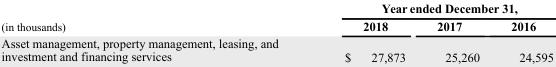table: (0, 0, 553, 63)
table column: (0, 0, 310, 63), (310, 0, 420, 63), (420, 0, 494, 63), (494, 0, 553, 63)
table column header: (0, 0, 553, 34)
table row: (0, 34, 553, 63), (0, 16, 553, 34), (0, 0, 553, 16)
table spanning cell: (0, 0, 310, 34), (310, 0, 553, 16)
